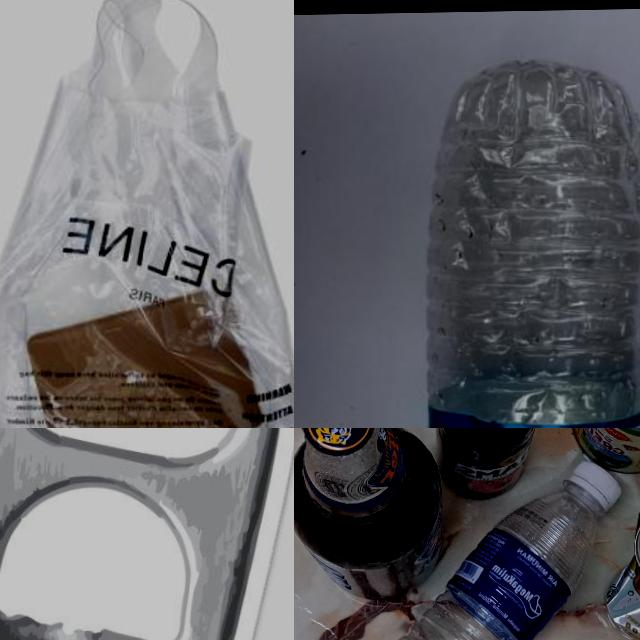aba de lata: (0, 428, 294, 640)
garrafa de vidro: (294, 428, 445, 608), (434, 428, 543, 501)
garrafa plástica: (421, 58, 640, 428), (341, 489, 599, 640)
lata: (603, 488, 640, 640)
sacola plástica: (0, 0, 294, 428)
tampa plástica: (570, 462, 623, 511)
